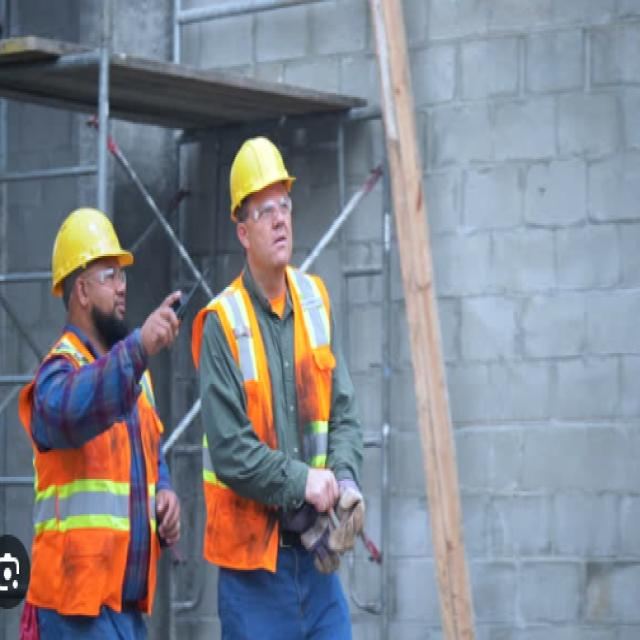helmet: (223, 131, 300, 289), (49, 204, 134, 340)
vest: (190, 265, 336, 578), (16, 329, 166, 621)
